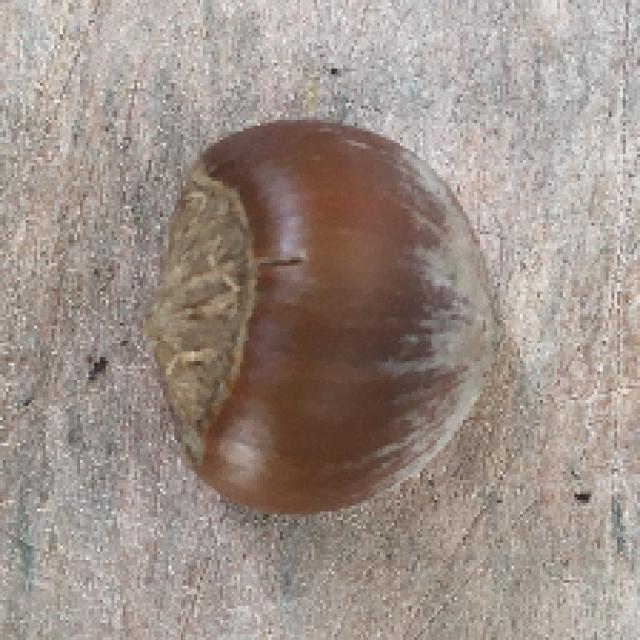damagedHazelnut: (149, 117, 508, 522)
